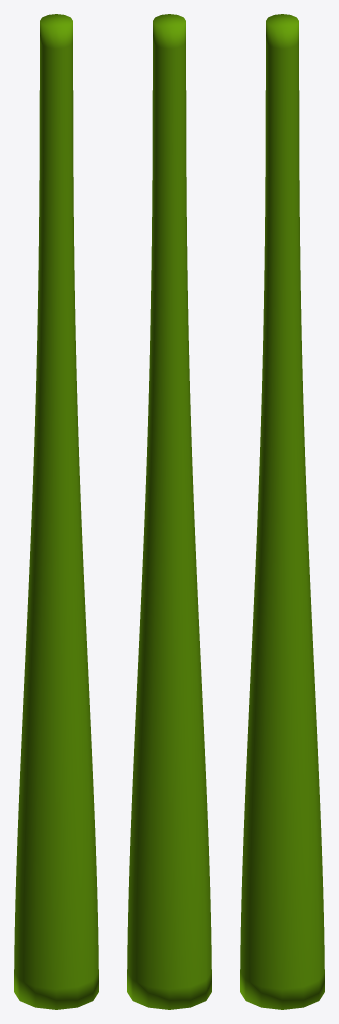
The model's file is FlowerStem2.fbx.
3 renders of one model, left to right at view 1: azimuth 30°, elevation 25°; view 2: azimuth 150°, elevation 25°; view 3: azimuth 330°, elevation 25°, orthographic.
Visible parts, largest first — view 1: Stem2; view 2: Stem2; view 3: Stem2.
Part boxes in pixels (x1,y1,x2,y2): Stem2: (14, 14, 98, 1009); Stem2: (127, 14, 211, 1009); Stem2: (240, 14, 324, 1009).
Bounding box in the file's own units: 20.44 × 258 × 20.44.
